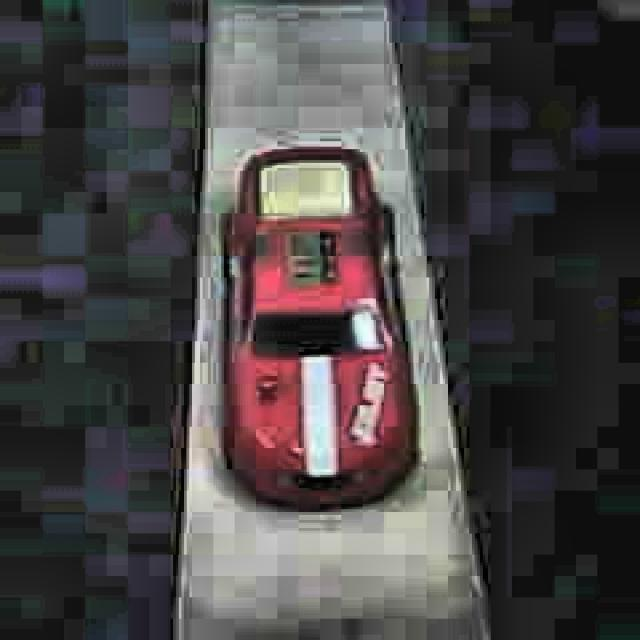car: (212, 140, 426, 517)
